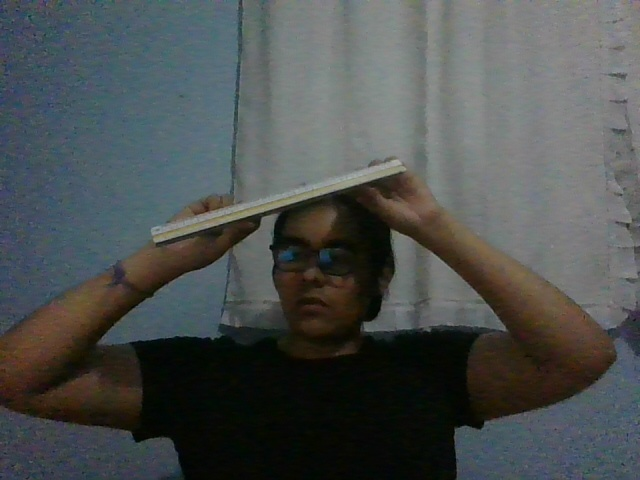regla: (149, 157, 408, 248)
